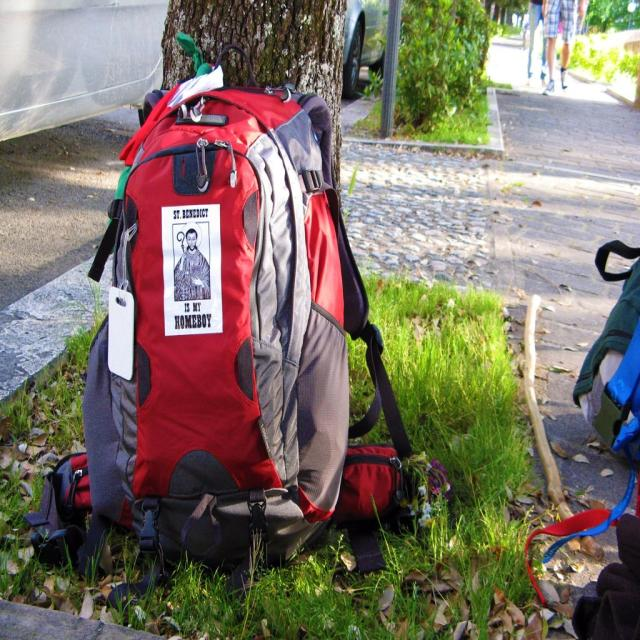backpack: (57, 59, 397, 551), (570, 243, 640, 465)
